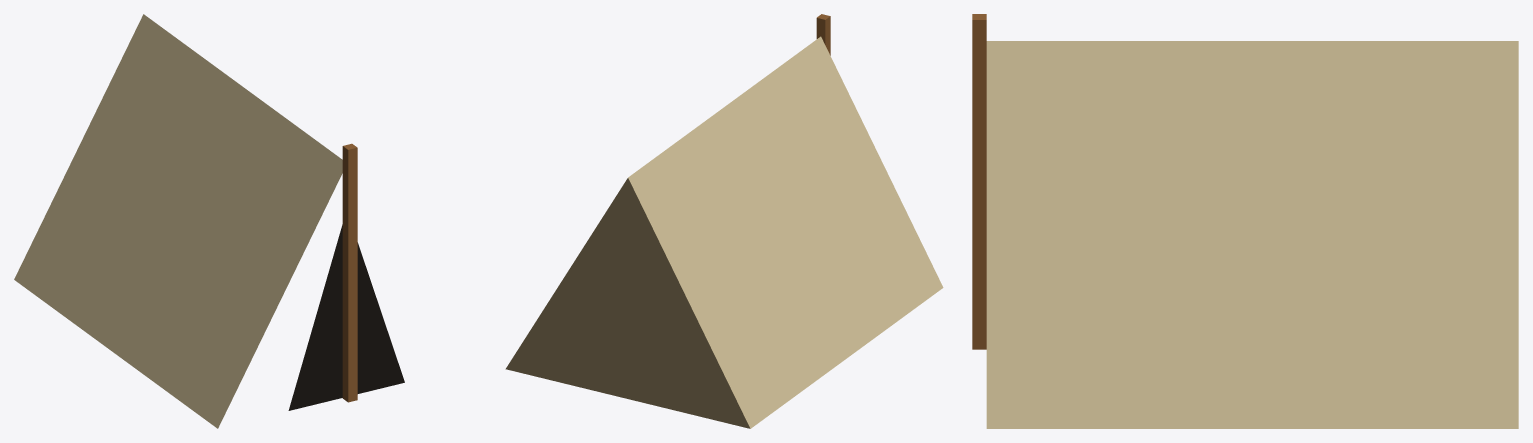
File: camp_tent.glb
3 renders of one model, left to right at view 1: azimuth 30°, elevation 25°; view 2: azimuth 150°, elevation 25°; view 3: azimuth 270°, elevation 25°, orthographic. The views are drawn at different scales.
Parts seen in each view (by area): view 1: camp_tent; view 2: camp_tent; view 3: camp_tent.
Boxes of the visible parts, x1,y1,x2,y2 form: camp_tent: (14,14,404,428); camp_tent: (505,14,943,428); camp_tent: (972,14,1518,428).
Bounding box in the file's own units: 2.2 × 2.05 × 3.08.
1 material, 1 textured.
